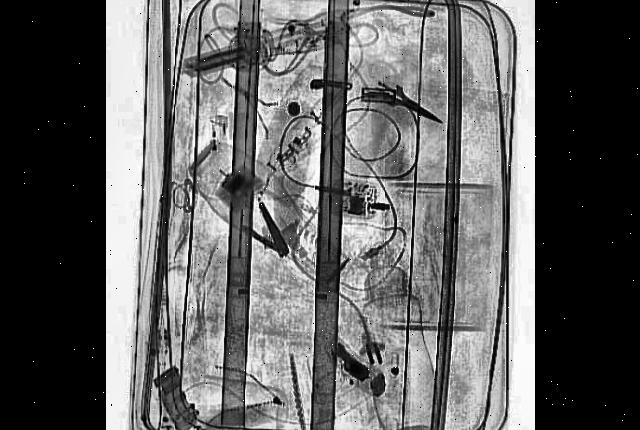Knife: (374, 71, 444, 130)
